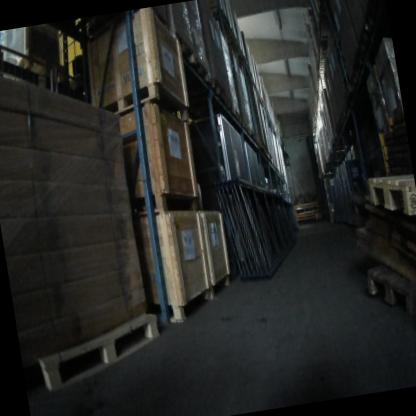pallet: (32, 309, 166, 395), (365, 255, 416, 320), (367, 171, 416, 222), (15, 42, 65, 86), (171, 28, 197, 69), (193, 56, 211, 83), (210, 77, 226, 103), (223, 96, 235, 115), (233, 108, 243, 125), (242, 121, 250, 134)
